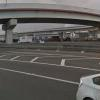Bridge: (3, 1, 90, 39)
